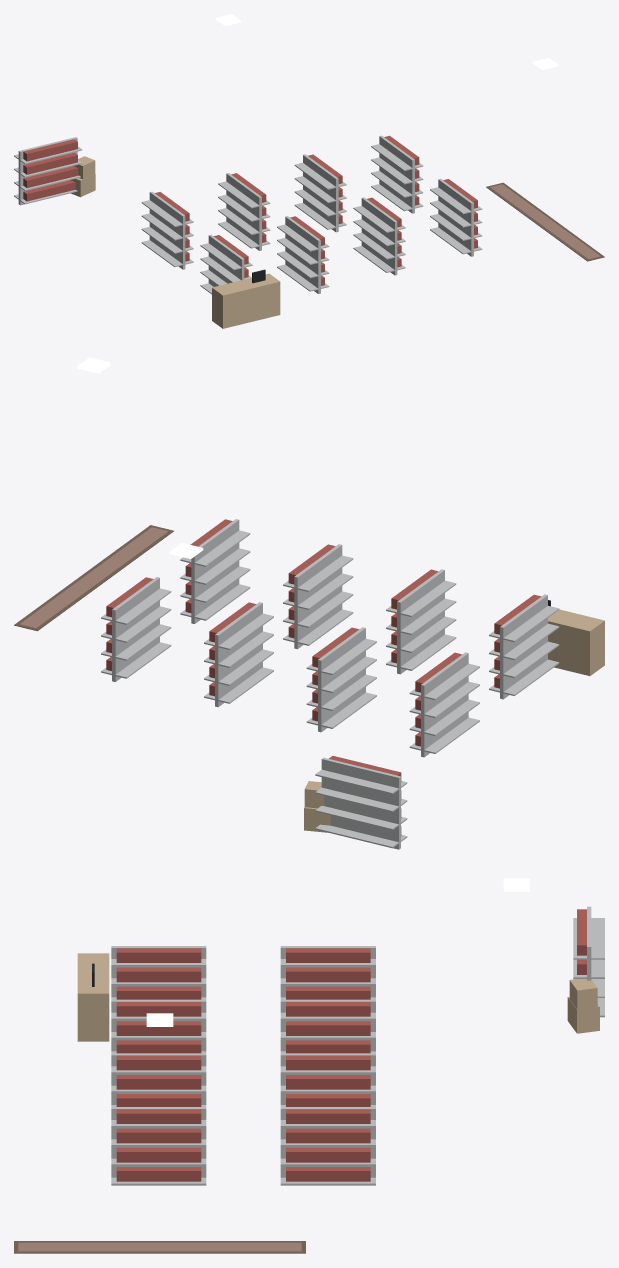
File: fine-s0.glb
3 views of the same model, one above another, from view 1: azimuth 30°, elevation 25°; view 2: azimuth 150°, elevation 25°; view 3: azimuth 270°, elevation 25° (orthographic). The views are drawn at different scales.
Parts seen in each view (by area): view 1: shelving.000, shop-counter.000, shelf.005, shelf.000, shelf.002, shelf.006, shelf.004, shelf.003, shelf.007, shelf.001, soft-s0, cardboard-box.000; view 2: shelving.000, shelf.005, shelf.003, shelf.006, shelf.000, shelf.002, shelf.001, shelf.004, shelf.007, soft-s0, shop-counter.000, cardboard-box.000; view 3: shelf.006, shelf.007, shelf.002, shelf.000, shelf.001, shelf.004, shelf.005, shelf.003, soft-s0, shop-counter.000, shelving.000, cardboard-box.000.
Part boxes in pixels (<box>): shelving.000: <box>14,137,82,205</box>; shop-counter.000: <box>212,269,280,328</box>; shelf.005: <box>353,197,405,275</box>; shelf.000: <box>141,191,193,269</box>; shelf.002: <box>218,173,270,250</box>; shelf.006: <box>371,135,423,213</box>; shelf.004: <box>294,154,346,232</box>; shelf.003: <box>277,216,329,293</box>; shelf.007: <box>430,178,482,256</box>; shelf.001: <box>200,234,252,294</box>; soft-s0: <box>486,182,604,261</box>; cardboard-box.000: <box>70,156,95,197</box>; shelving.000: <box>315,756,407,849</box>; shelf.005: <box>283,544,353,649</box>; shelf.003: <box>386,569,456,674</box>; shelf.006: <box>101,577,171,681</box>; shelf.000: <box>409,652,479,757</box>; shelf.002: <box>306,627,376,732</box>; shelf.001: <box>489,594,559,699</box>; shelf.004: <box>204,602,273,707</box>; shelf.007: <box>180,519,250,623</box>; soft-s0: <box>14,525,173,631</box>; shop-counter.000: <box>548,600,604,675</box>; cardboard-box.000: <box>304,781,330,832</box>; shelf.006: <box>280,1107,375,1185</box>; shelf.007: <box>111,1107,206,1185</box>; shelf.002: <box>280,999,375,1053</box>; shelf.000: <box>280,946,375,999</box>; shelf.001: <box>111,946,206,999</box>; shelf.004: <box>280,1053,375,1106</box>; shelf.005: <box>111,1053,206,1106</box>; shelf.003: <box>111,999,206,1053</box>; soft-s0: <box>14,1241,305,1253</box>; shop-counter.000: <box>77,953,109,1041</box>; shelving.000: <box>573,906,604,1017</box>; cardboard-box.000: <box>567,979,599,1033</box>.
Bounding box in the file's own units: 12.09 × 4.77 × 11.17.
